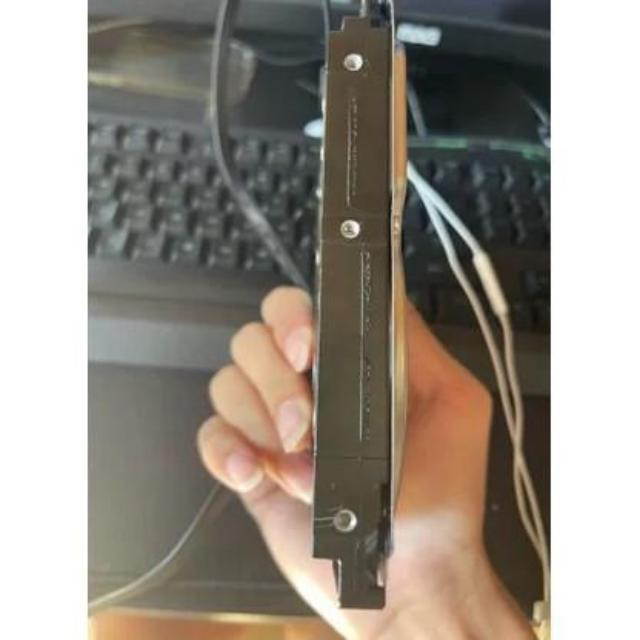DISK: (298, 0, 426, 617)
